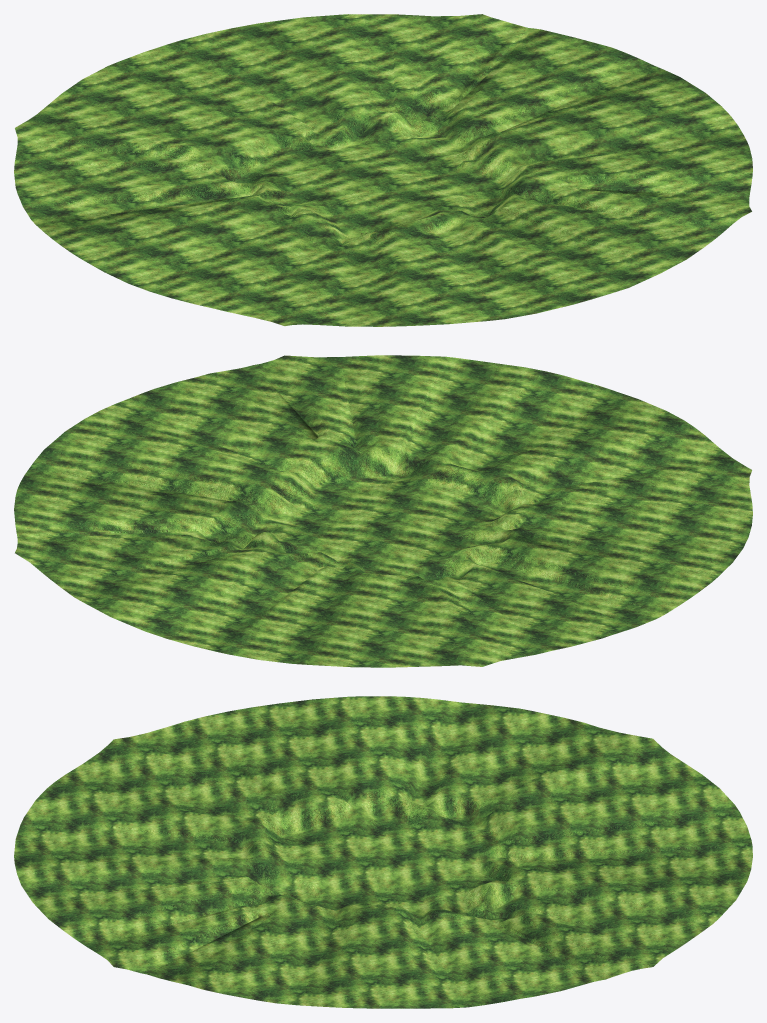
File: ENVO_GrassHills.obj
The picture shows the model from 3 angles, top to bottom: view 1: azimuth 30°, elevation 25°; view 2: azimuth 150°, elevation 25°; view 3: azimuth 270°, elevation 25°; orthographic projection.
Visible parts, largest first — view 1: GrassHills; view 2: GrassHills; view 3: GrassHills.
Boxes of the visible parts, x1,y1,x2,y2 form: GrassHills: (14, 14, 752, 326); GrassHills: (14, 355, 752, 667); GrassHills: (14, 696, 752, 1008).
Size of what is drawn, in the model's own units: 19998 by 653 by 19998.
2 materials, 2 textured.
